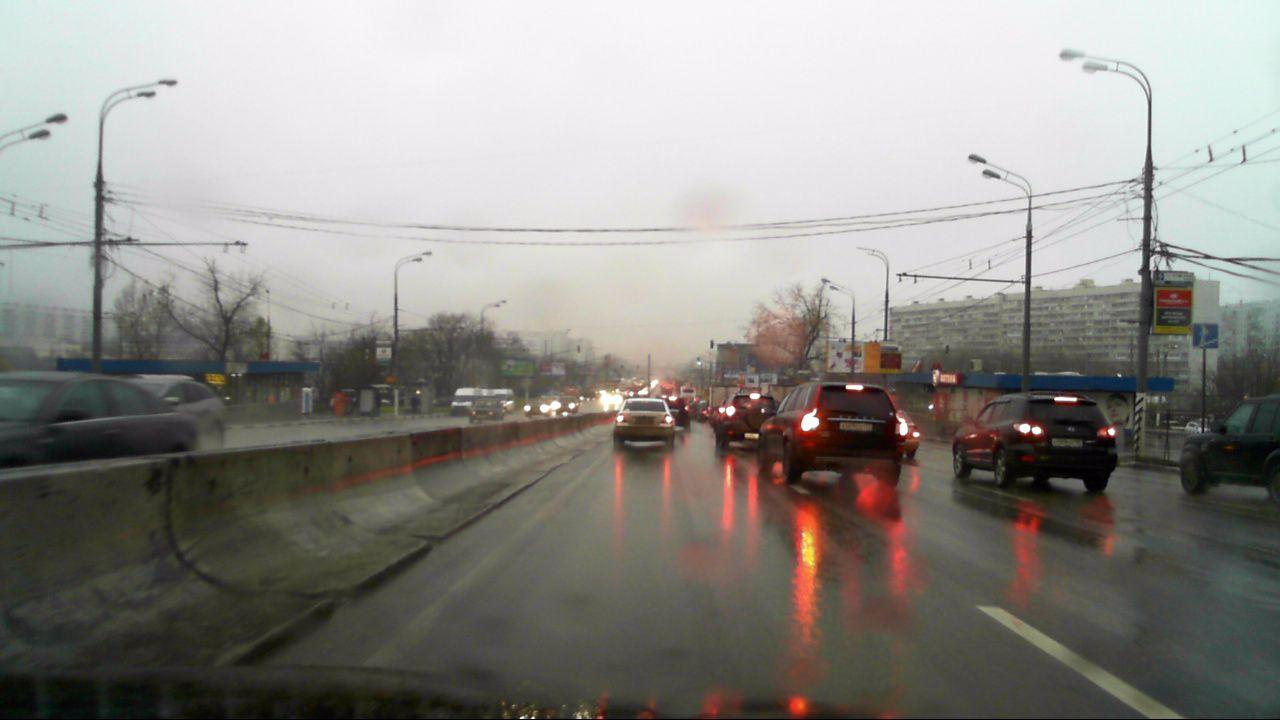6_6: (1193, 322, 1219, 347)
